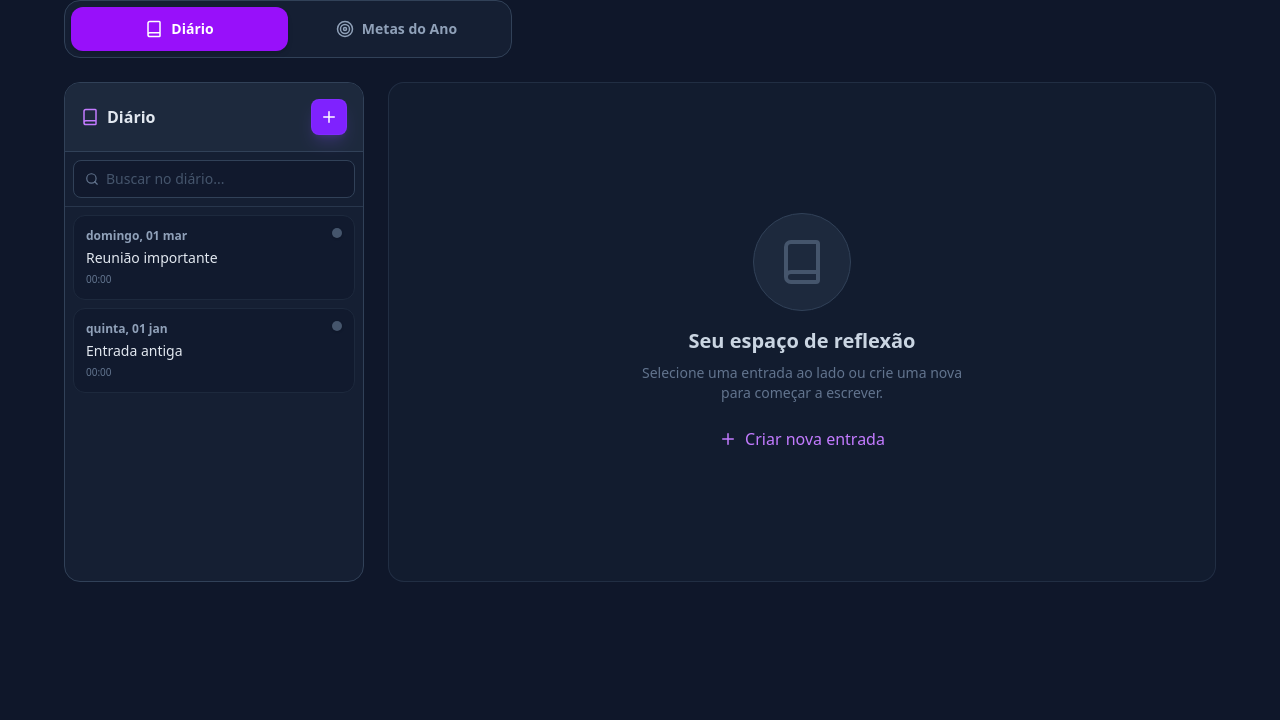
Test: JournalView editor and sidebar › lists entries newest first and filters them with an accent-insensitive search
Type "reuniao" into the search field named "Buscar entradas do diário" at coordinates (214, 179), box [73, 160, 355, 198]
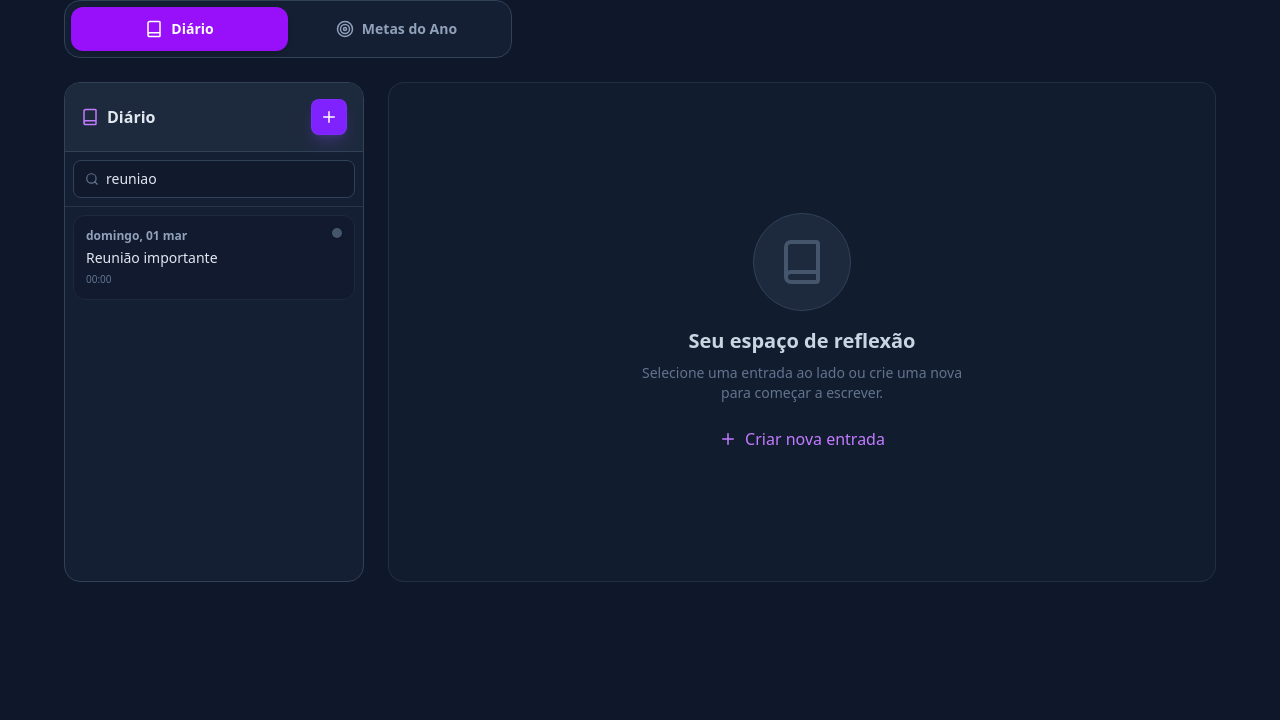
Expected: the text "Reunião importante" is shown, [86, 248, 218, 267]
Expected: the button "Entrada antiga" is gone
Replace the text in the search field named "Buscar entradas do diário" with "xyz" at coordinates (214, 179), box [73, 160, 355, 198]
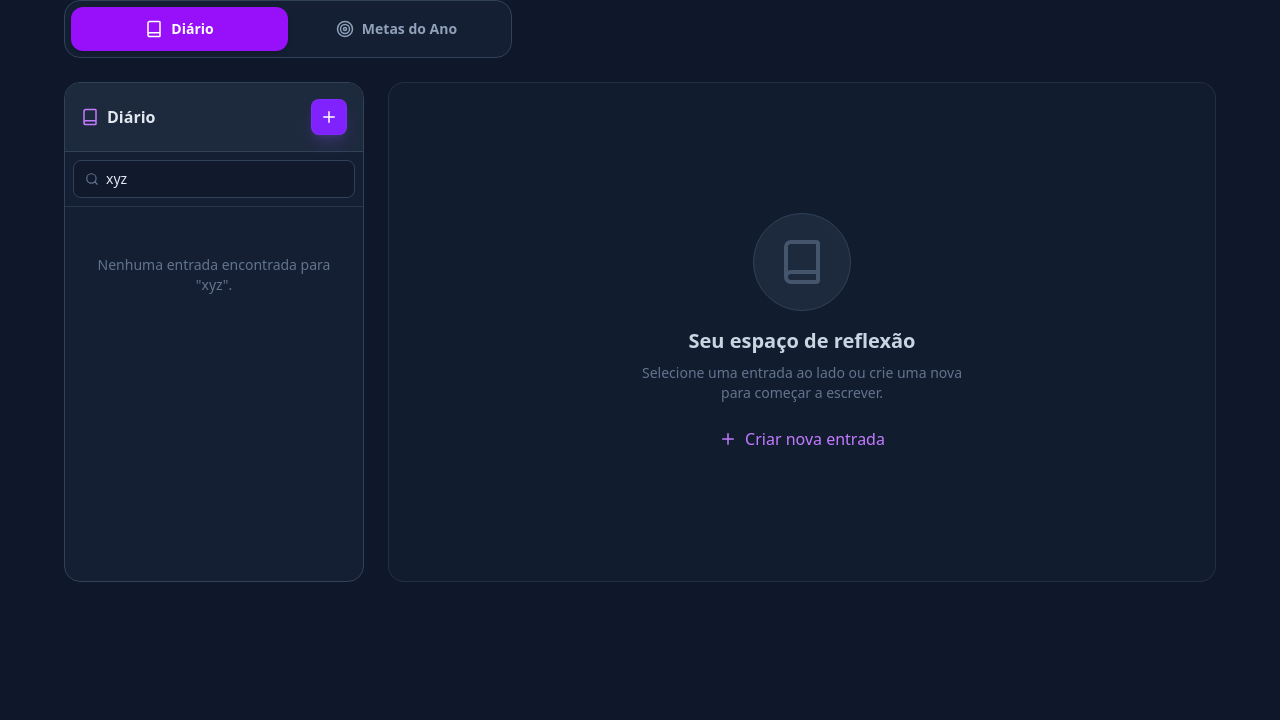
Expected: the text "Nenhuma entrada encontrada para \"xyz\"." is shown, [98, 255, 330, 294]
